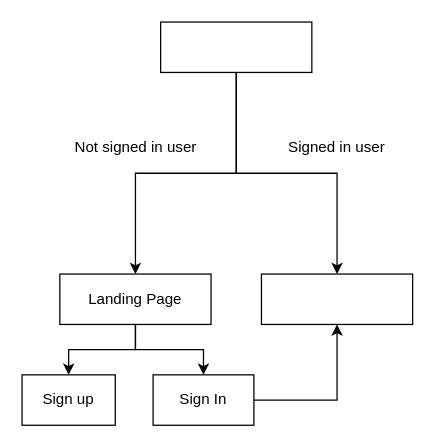
The diagram is 435 pixels wide and 447 high, and some of its shapes have lost their labels. The box of each missing label's shape, as (x1, y1, x2, y2) in pixels:
Home: (260, 273, 413, 324)
main.dart: (159, 21, 312, 72)
